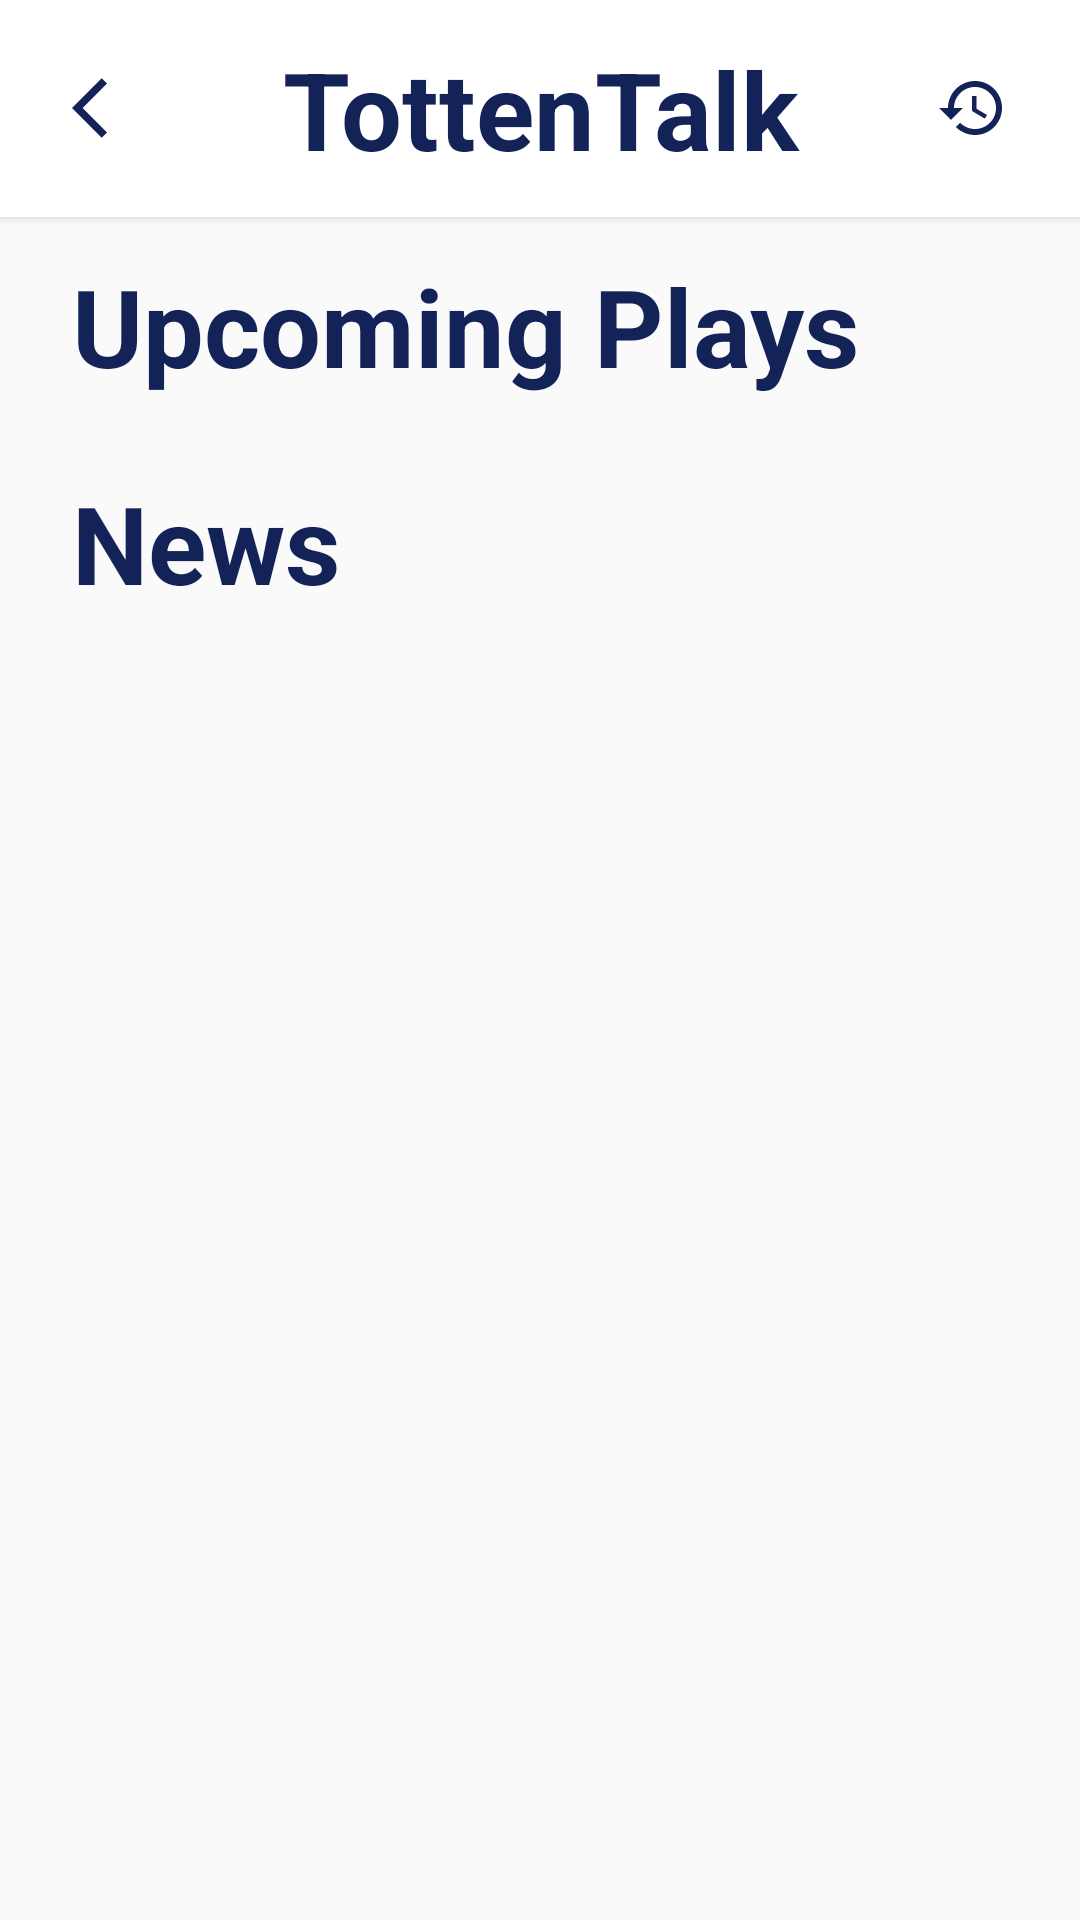

Icons on this 1080x1920 Android screen, each with its box as (x1, y1, x2, y2):
Back Button: (72, 78, 107, 138)
History Button: (939, 81, 1002, 135)
